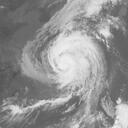cyclone: (47, 30, 107, 89)
